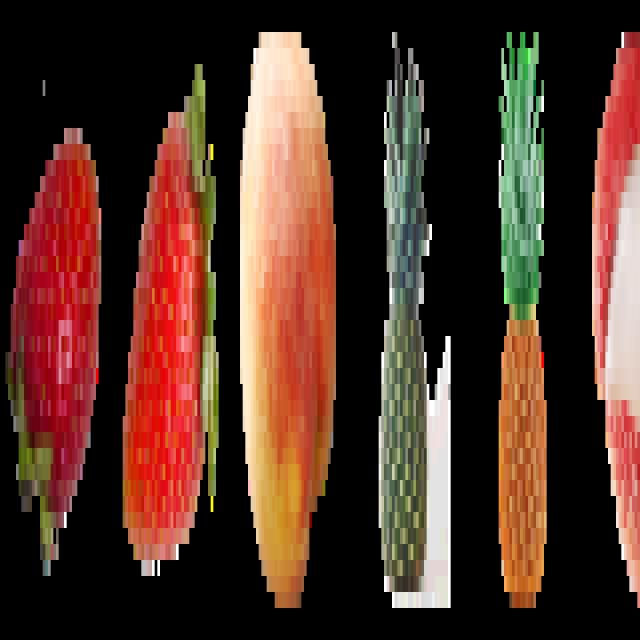peach: (234, 16, 340, 616)
pineapples: (368, 13, 442, 615), (489, 9, 556, 622)
strawberry: (117, 58, 222, 589), (4, 67, 104, 601)
